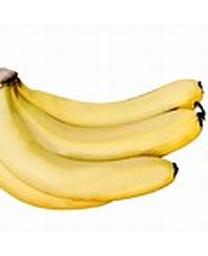banana: (0, 66, 207, 212)
